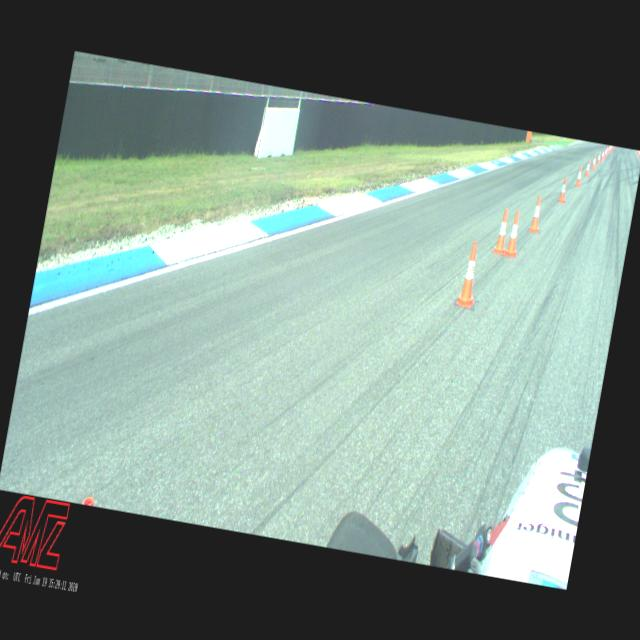orange_cone: (455, 240, 484, 309), (503, 210, 524, 258), (492, 208, 512, 256), (528, 195, 544, 232), (558, 176, 568, 202), (574, 166, 583, 186), (584, 159, 591, 176), (590, 154, 596, 168), (596, 151, 602, 164), (600, 150, 605, 160), (603, 147, 607, 158), (607, 144, 610, 154)
